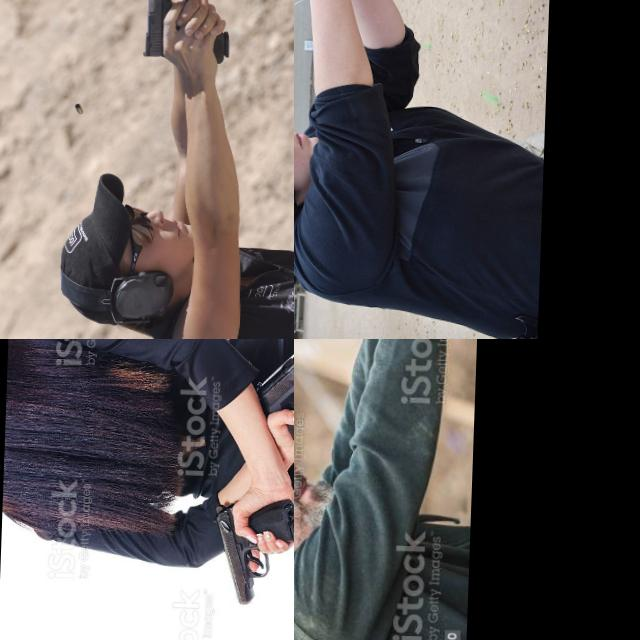handgun: (205, 493, 294, 608), (249, 339, 294, 465), (332, 339, 407, 407), (137, 0, 193, 64), (294, 0, 321, 55)
